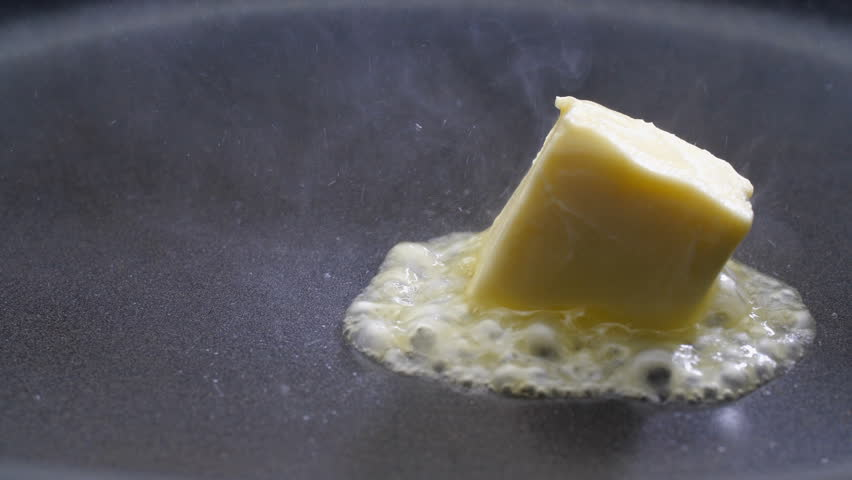Butter: (471, 102, 753, 332)
